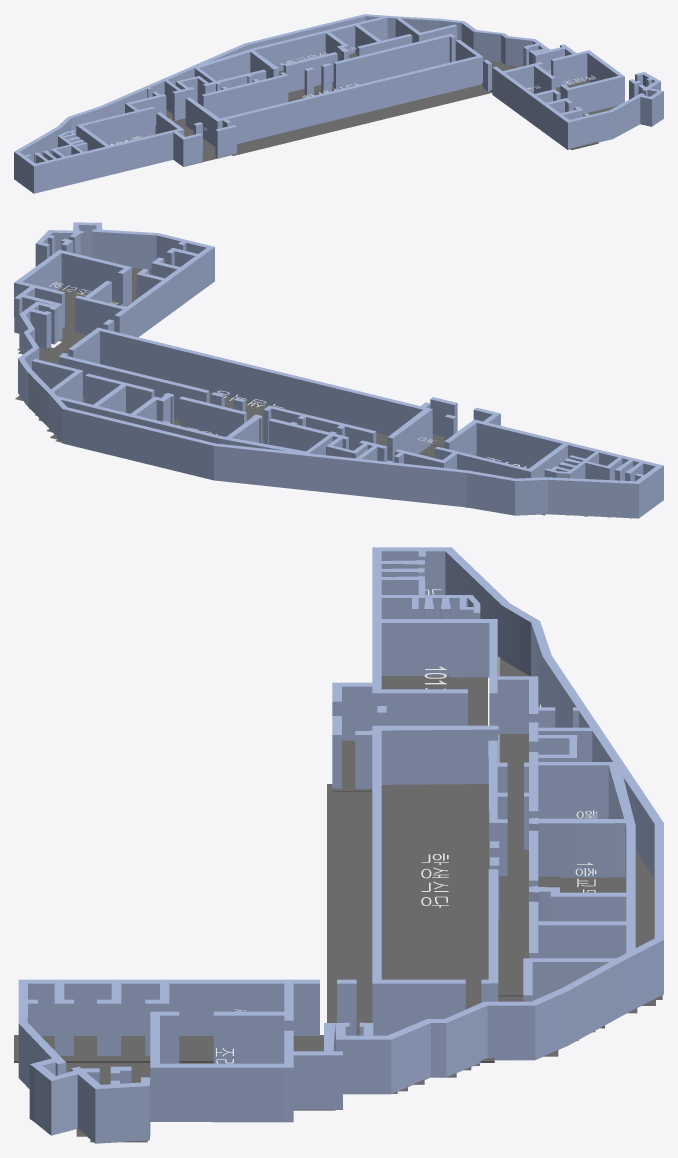
The model's file is 1floor.glb.
The picture shows the model from 3 angles, top to bottom: view 1: azimuth 30°, elevation 25°; view 2: azimuth 150°, elevation 25°; view 3: azimuth 270°, elevation 25°; orthographic projection. The views are drawn at different scales.
Visible parts, largest first — view 1: Layer:0, Box047; view 2: Layer:0, Box029, Box050; view 3: Layer:0, Box029, Box047, Box030, Box028, Box048, Box031, Box007, Box022, Box001.
Part boxes in pixels (x1=…): Layer:0: x1=14, y1=14, x2=663, y2=193; Box047: x1=232, y1=84, x2=492, y2=155; Layer:0: x1=14, y1=222, x2=663, y2=518; Box029: x1=209, y1=392, x2=437, y2=457; Box050: x1=58, y1=287, x2=117, y2=330; Layer:0: x1=18, y1=547, x2=663, y2=1143; Box029: x1=371, y1=784, x2=473, y2=1022; Box047: x1=327, y1=784, x2=372, y2=1034; Box030: x1=466, y1=768, x2=511, y2=1060; Box028: x1=498, y1=823, x2=560, y2=996; Box048: x1=14, y1=1035, x2=494, y2=1062; Box031: x1=626, y1=877, x2=662, y2=999; Box007: x1=499, y1=658, x2=516, y2=822; Box022: x1=560, y1=877, x2=625, y2=892; Box001: x1=381, y1=676, x2=449, y2=689.
Bounding box in the file's own units: 3.87 × 0.1882 × 1.96.
